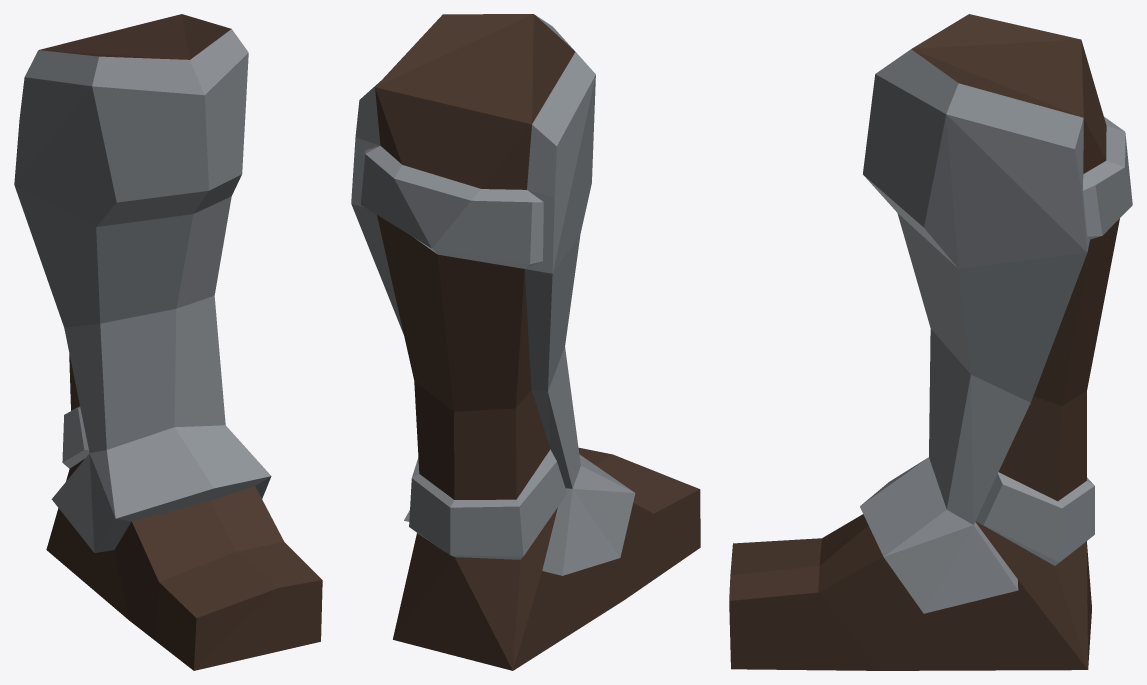
The model's file is Chr_LegLeft_Male_15_Static.fbx.
The picture shows the model from 3 angles, left to right: view 1: azimuth 30°, elevation 25°; view 2: azimuth 150°, elevation 25°; view 3: azimuth 270°, elevation 25°; orthographic projection. The views are drawn at different scales.
Visible parts, largest first — view 1: Chr_LegLeft_Male_15_Static; view 2: Chr_LegLeft_Male_15_Static; view 3: Chr_LegLeft_Male_15_Static.
Boxes of the visible parts, box(x1,y1,x2,y2) form: Chr_LegLeft_Male_15_Static: box(14, 14, 322, 670); Chr_LegLeft_Male_15_Static: box(351, 14, 700, 670); Chr_LegLeft_Male_15_Static: box(729, 14, 1132, 670).
Bounding box in the file's own units: 0.1479 × 0.4048 × 0.2496.
